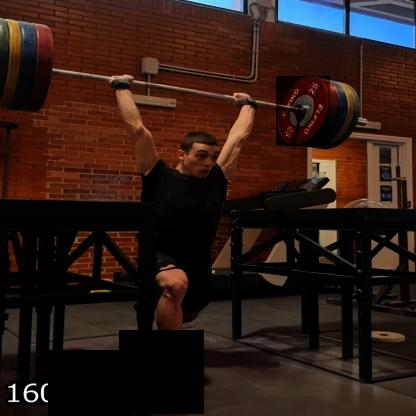barbell: (278, 77, 332, 147)
